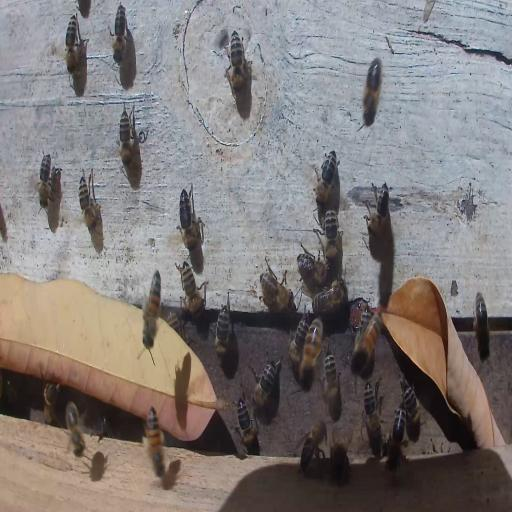bee: (141, 404, 166, 480), (300, 315, 326, 386), (354, 313, 382, 375), (249, 357, 282, 408), (142, 267, 162, 349), (258, 266, 293, 312), (299, 420, 327, 476), (313, 149, 339, 208), (177, 260, 204, 316), (364, 180, 390, 238), (78, 168, 100, 236), (234, 396, 258, 456), (362, 56, 382, 128), (178, 184, 199, 250), (329, 425, 352, 485), (312, 275, 348, 313), (400, 377, 422, 439), (316, 208, 342, 260), (298, 242, 328, 286), (363, 377, 383, 439), (211, 296, 231, 356), (474, 291, 490, 361), (322, 350, 340, 412), (66, 400, 85, 456), (118, 104, 134, 169), (111, 3, 127, 64), (229, 30, 244, 95), (390, 406, 406, 464), (38, 150, 53, 211), (288, 325, 306, 372), (65, 14, 79, 74), (44, 380, 59, 426)
